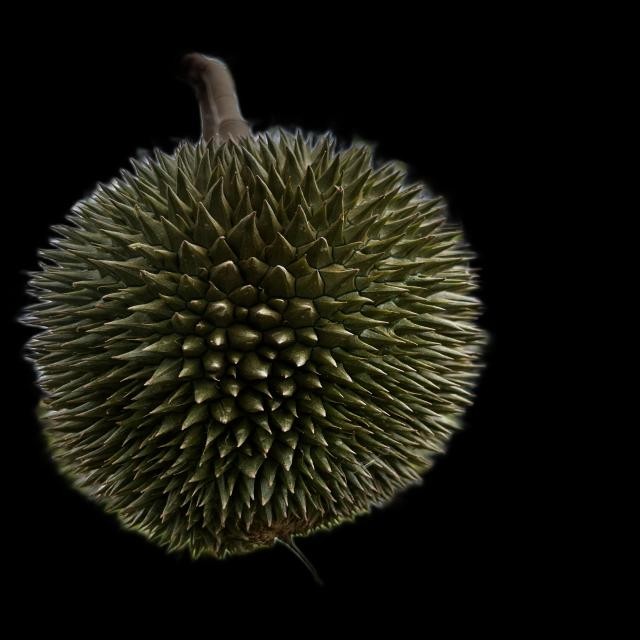immature: (24, 133, 496, 552)
